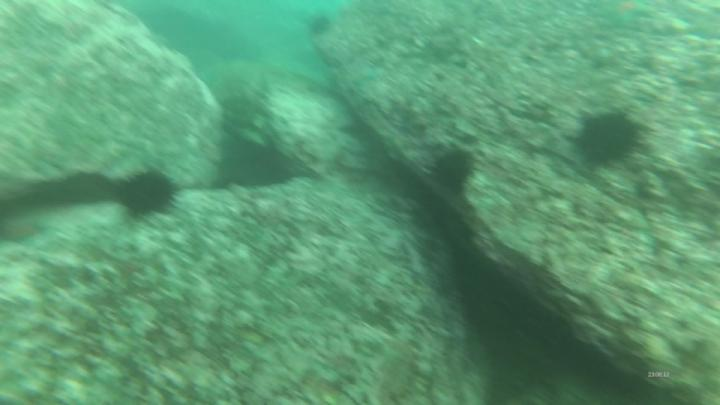echinus: (572, 105, 648, 173), (113, 163, 185, 224), (427, 144, 480, 197)
